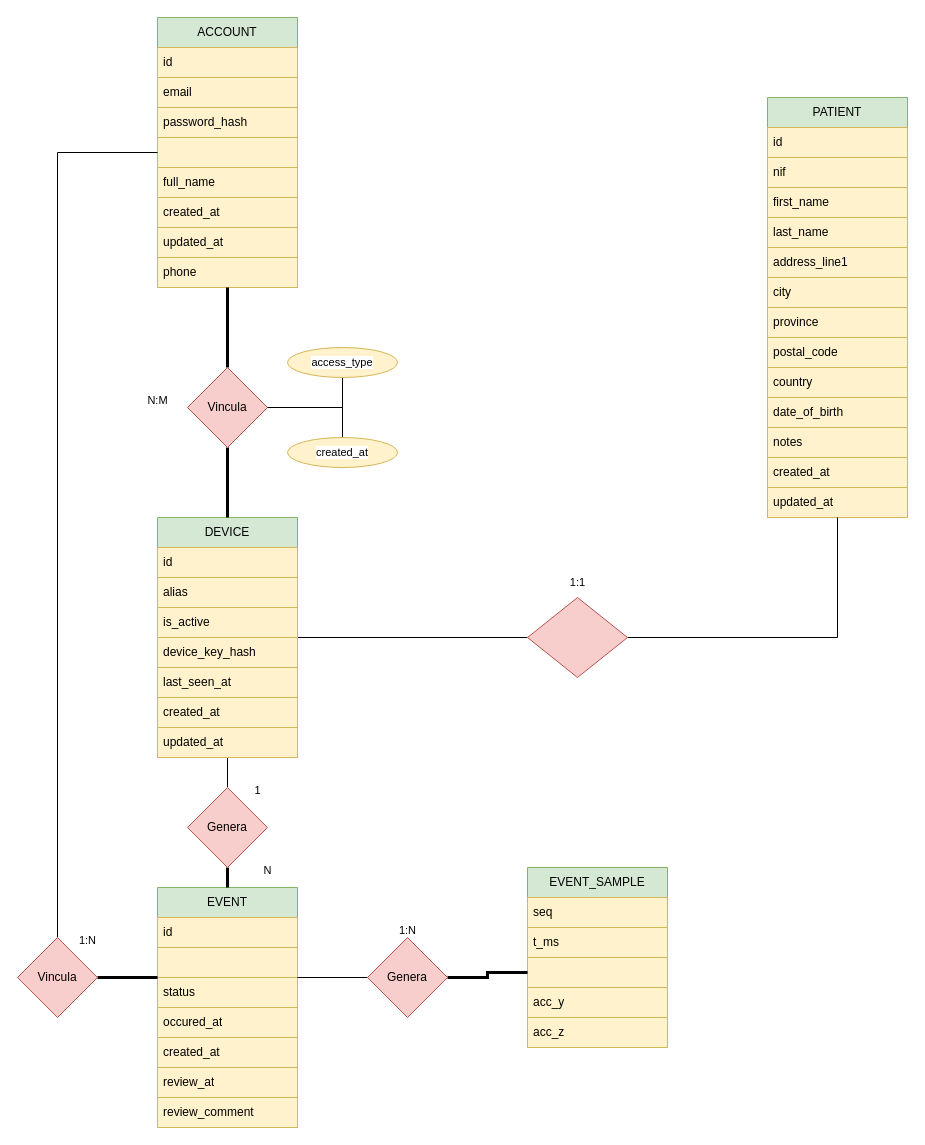
This 925x1145 diagram has some shape labels left out. Here are the shapes that lost their labels. From the top down, the centre of each, then its label:
At pixel 227 152: "role".
At pixel 577 637: "Tiene".
At pixel 227 962: "event_type".
At pixel 597 972: "acc_x".
